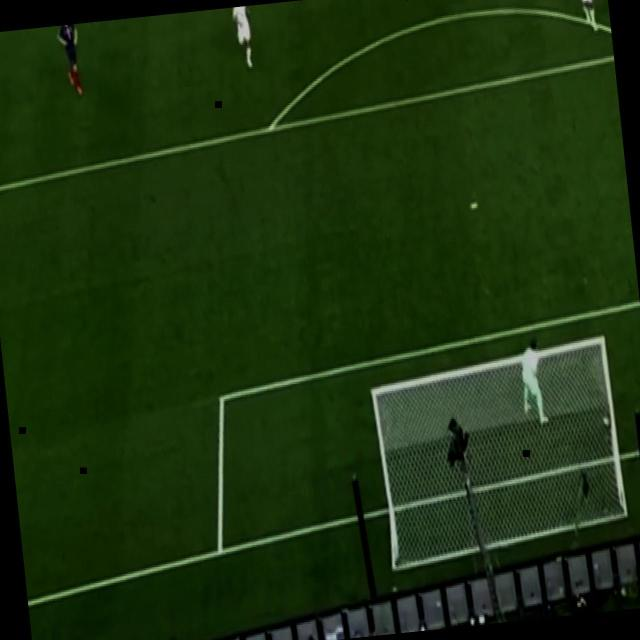player-white: (514, 332, 552, 432), (53, 24, 86, 106), (229, 6, 258, 74), (572, 0, 602, 38), (394, 0, 416, 4)
